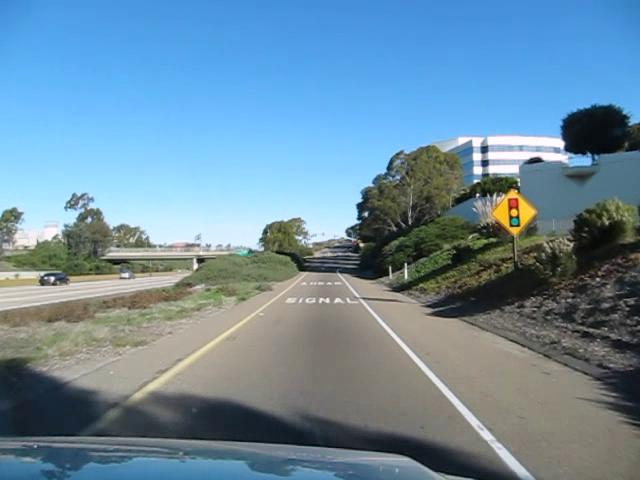signalAhead: (490, 187, 537, 237)
